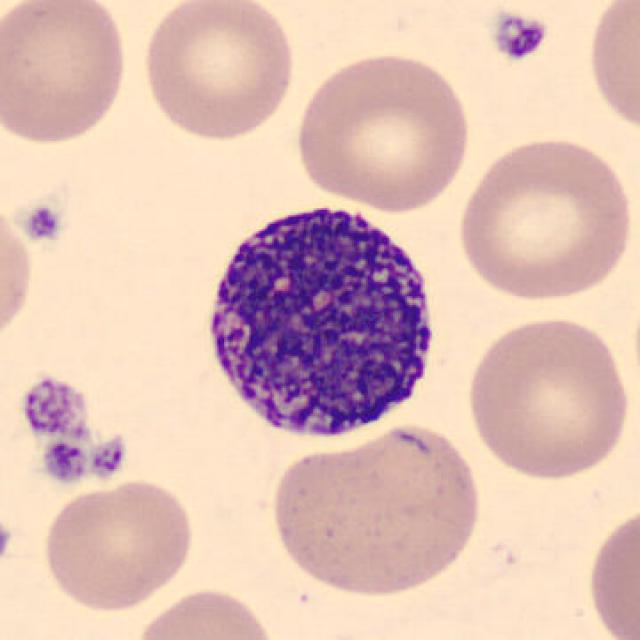Basophil: (190, 187, 450, 451)
Platelets: (18, 374, 85, 441), (487, 9, 551, 63), (39, 437, 89, 487), (20, 199, 64, 245), (87, 434, 128, 481), (0, 517, 16, 571)
RBC: (267, 422, 487, 602), (452, 130, 636, 307), (290, 48, 476, 213), (460, 312, 634, 483), (137, 0, 299, 145), (38, 476, 198, 614), (0, 0, 133, 148), (131, 583, 280, 640), (583, 497, 640, 640), (583, 0, 640, 139), (0, 190, 39, 352)
